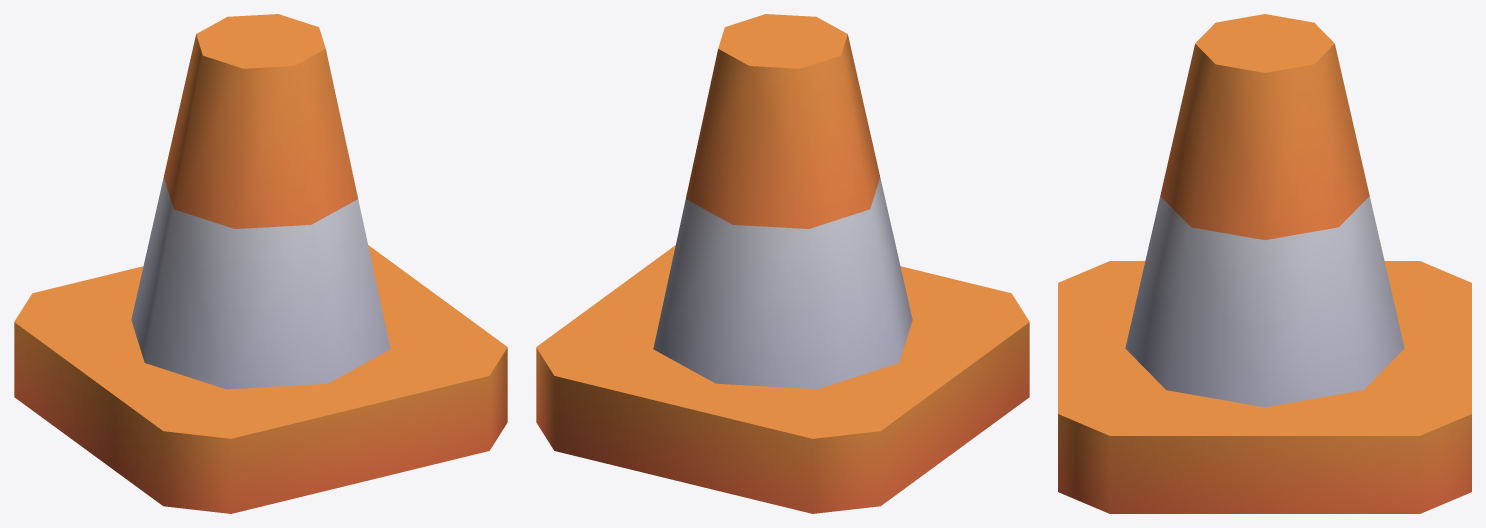
File: kenney-factory-cone.glb
3 renders of one model, left to right at view 1: azimuth 30°, elevation 25°; view 2: azimuth 150°, elevation 25°; view 3: azimuth 270°, elevation 25°, orthographic. The views are drawn at different scales.
Visible parts, largest first — view 1: cone; view 2: cone; view 3: cone.
Boxes of the visible parts, x1,y1,x2,y2 form: cone: (14, 14, 507, 513); cone: (536, 14, 1029, 513); cone: (1058, 14, 1471, 513).
Size of the model in its own units: 0.45 by 0.4597 by 0.45.
1 material, 1 textured.
